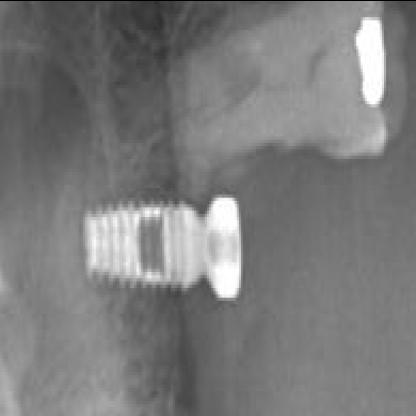Bicon: (80, 194, 202, 284)
